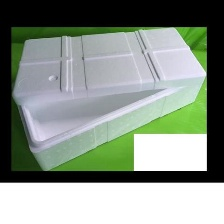foam_box: (7, 23, 207, 171)
